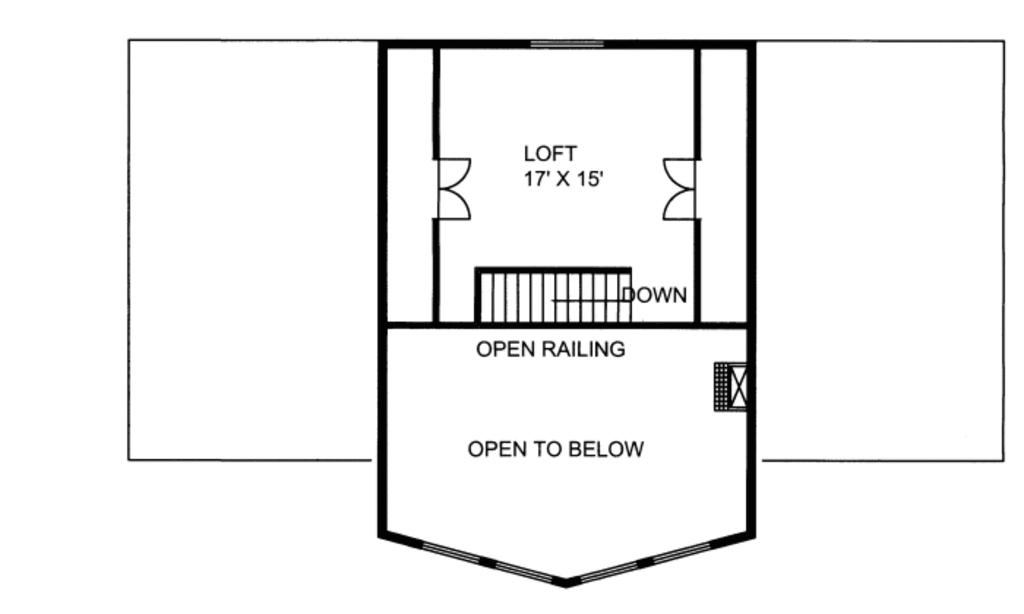door: (425, 149, 483, 231), (659, 150, 697, 226)
stairs: (465, 248, 640, 335)
window: (572, 535, 725, 595), (419, 539, 560, 588), (526, 40, 616, 51)
